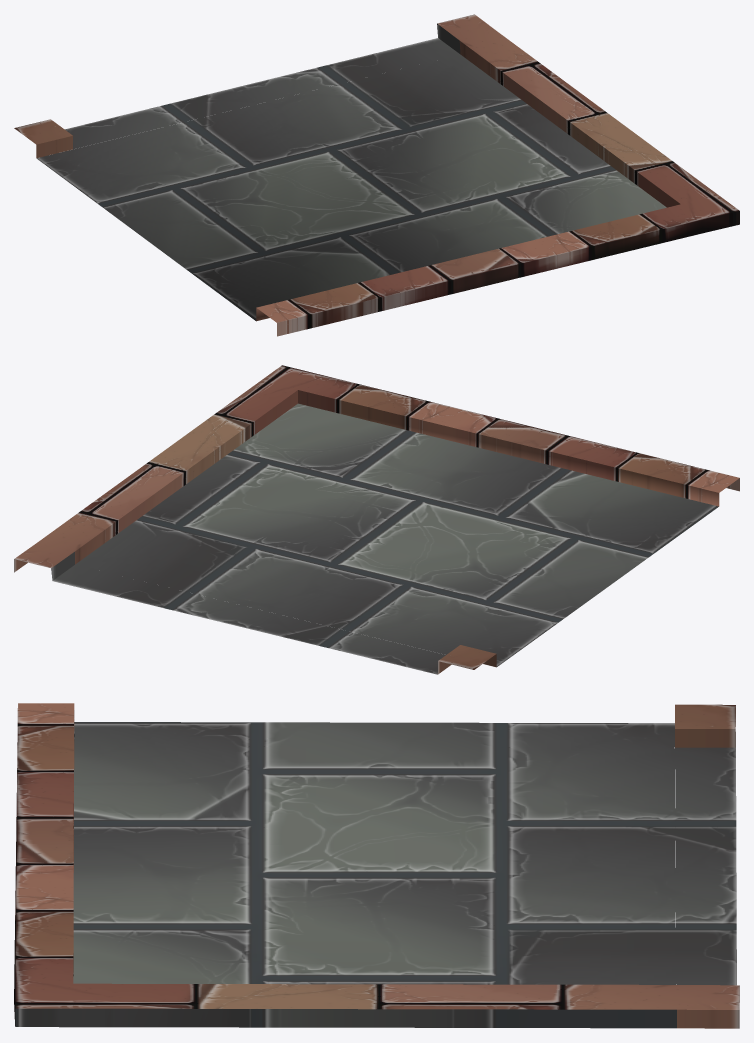
File: Left path extender .fbx
The picture shows the model from 3 angles, top to bottom: view 1: azimuth 30°, elevation 25°; view 2: azimuth 150°, elevation 25°; view 3: azimuth 270°, elevation 25°; orthographic projection. The views are drawn at different scales.
Parts seen in each view (by area): view 1: Left path extender; view 2: Left path extender; view 3: Left path extender.
Part boxes in pixels (x1,y1,x2,y2): Left path extender: (14, 14, 739, 336); Left path extender: (14, 365, 739, 674); Left path extender: (14, 703, 739, 1028).
Size of the model in its own units: 532 by 15 by 532.
2 materials, 2 textured.
